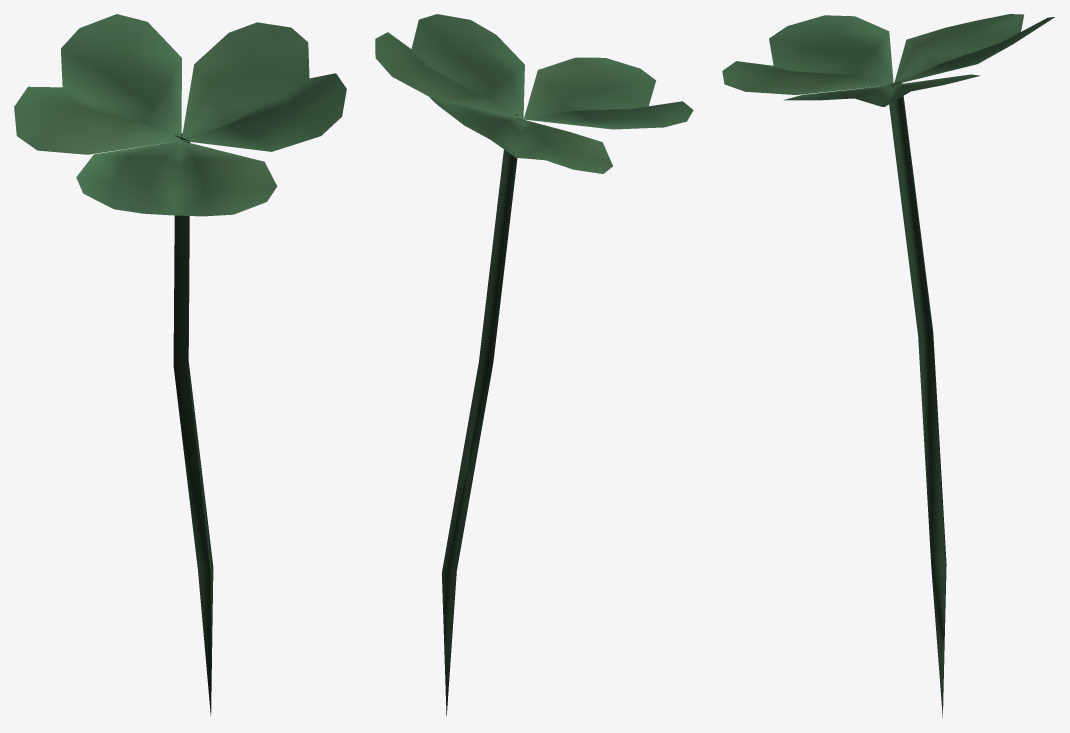
File: plants-leafy-plants-clover_v3.glb
The picture shows the model from 3 angles, left to right: view 1: azimuth 30°, elevation 25°; view 2: azimuth 150°, elevation 25°; view 3: azimuth 270°, elevation 25°; orthographic projection. The views are drawn at different scales.
Visible parts, largest first — view 1: Clover_v3; view 2: Clover_v3; view 3: Clover_v3.
Part boxes in pixels (box(x1,y1,x2,y2)): Clover_v3: box(14, 14, 346, 715); Clover_v3: box(375, 14, 693, 715); Clover_v3: box(722, 14, 1054, 717).
Size of the model in its own units: 0.0616 by 0.15 by 0.0671.
